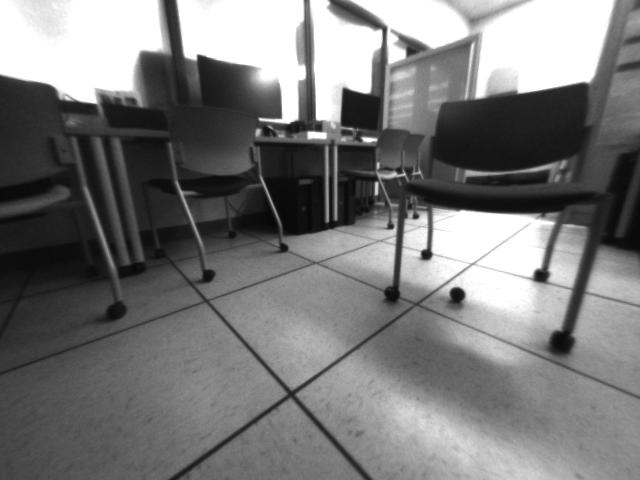dogtoy: (444, 280, 473, 309)
